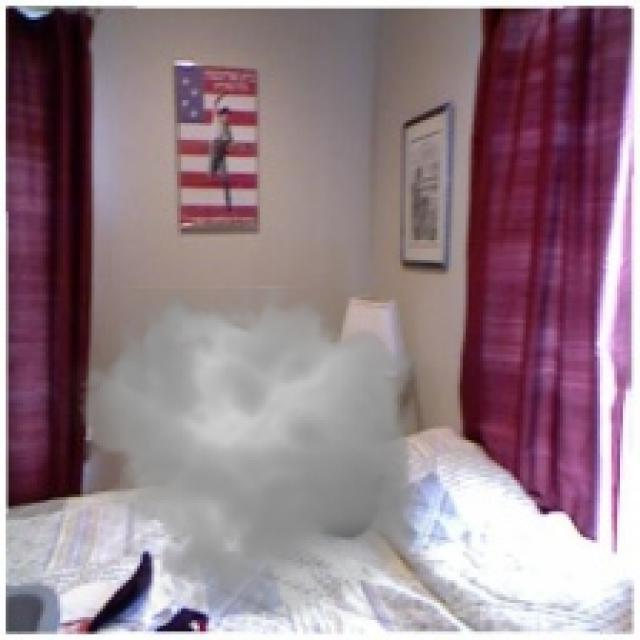Smoke: (66, 272, 437, 632)
